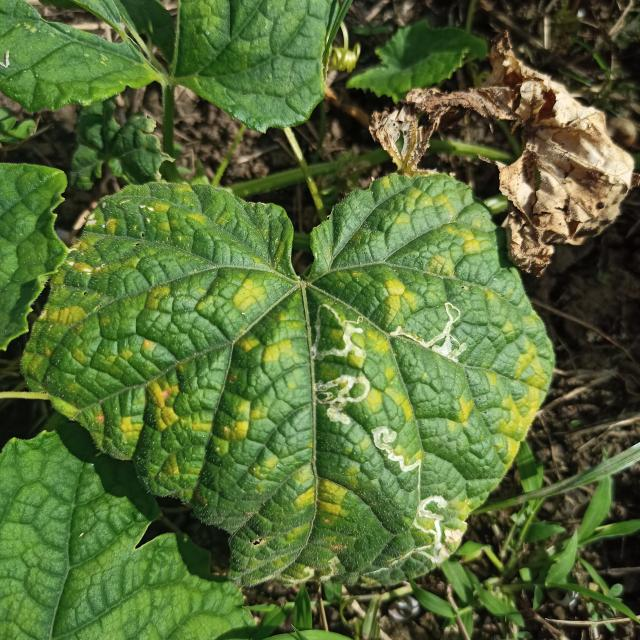disease_cucumber: (66, 186, 556, 585)
